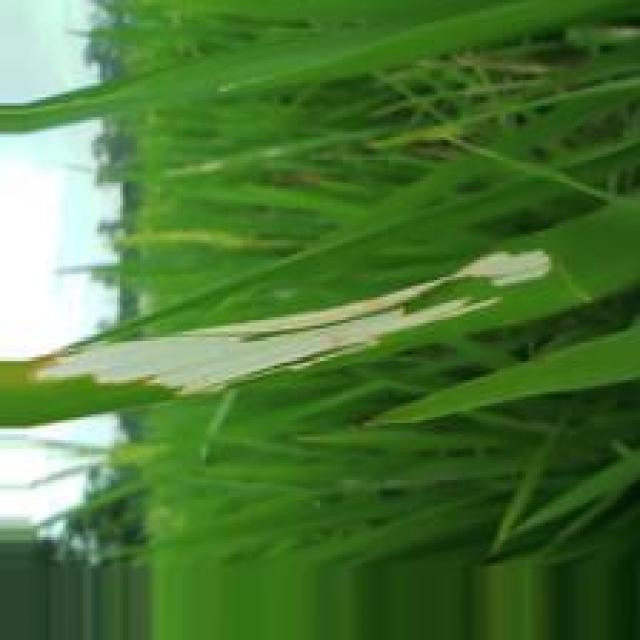Rice_Hispa: (30, 249, 555, 399)
